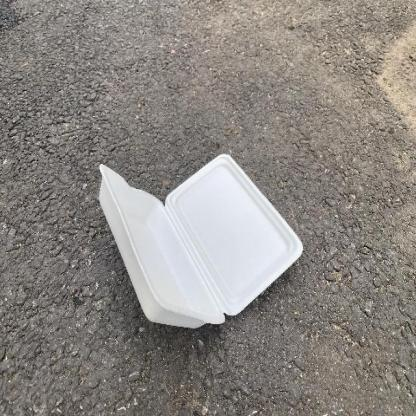Glass Cup: (97, 153, 305, 330), (99, 154, 303, 328)
